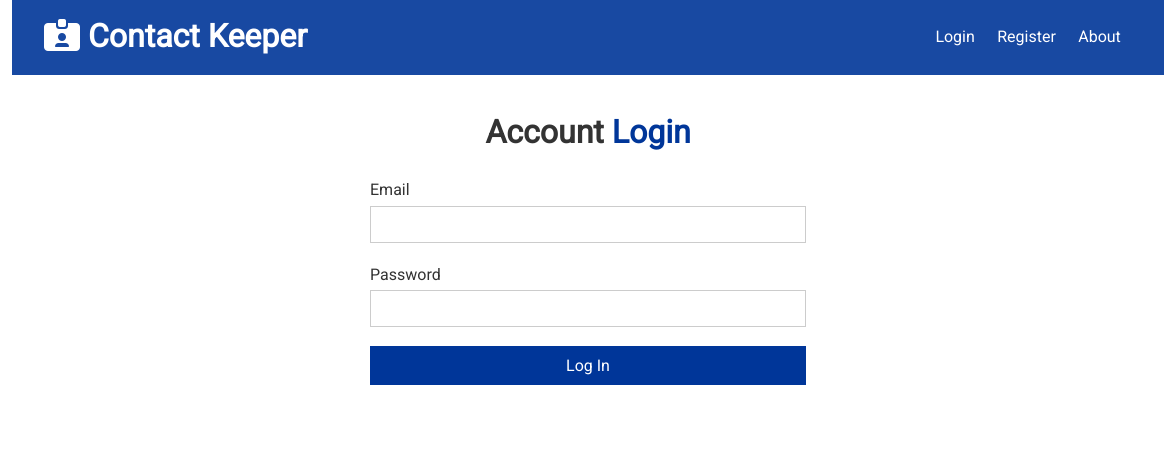
Test: UserLogin › should login successfully
Type "hpotter@hogwarts.io" into the field with test id "login-email" at (588, 224), box [370,206,806,242]
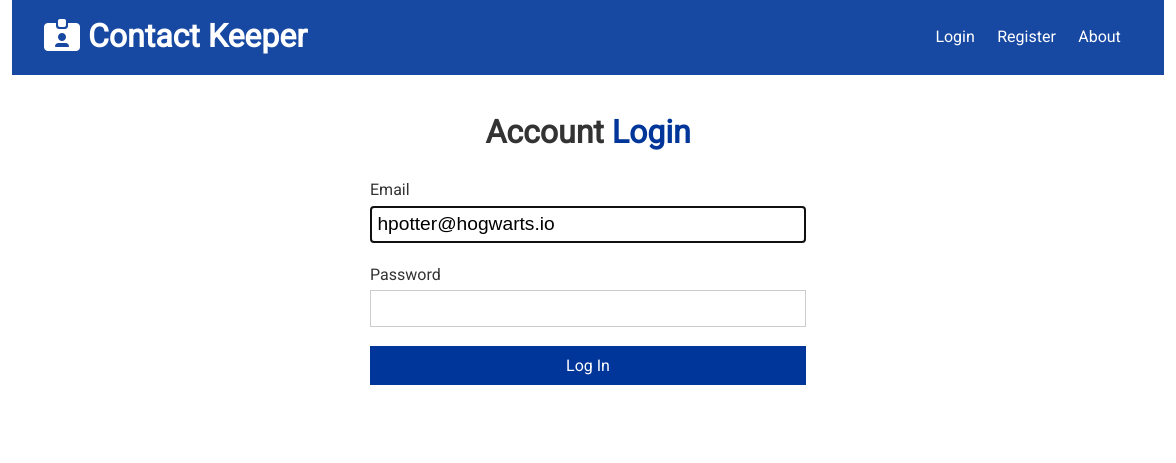
Type "abc123" into the password field with test id "login-password" at (588, 309), box [370,290,806,327]
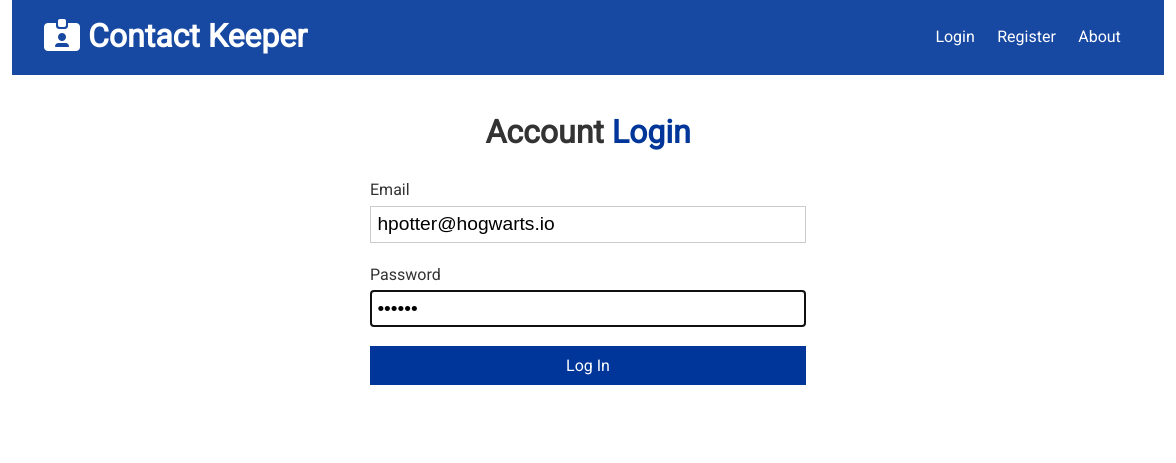
Click the button with test id "login-submit" at (588, 366), box [370,346,806,385]
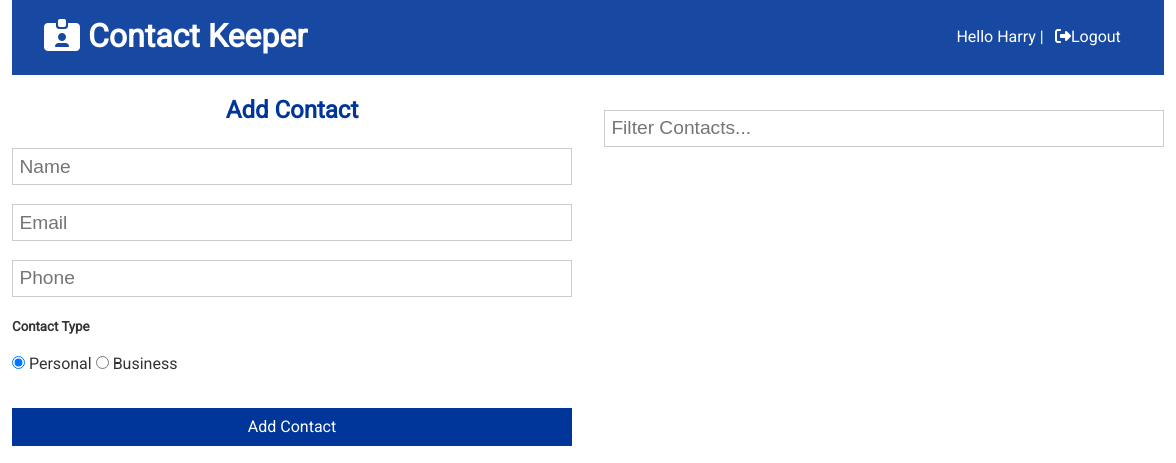
Now the list item "Hello Harry |" is shown, box [956,24,1044,50]
Now the heading with test id "form-title" reads "Add Contact", box [226,96,358,124]
